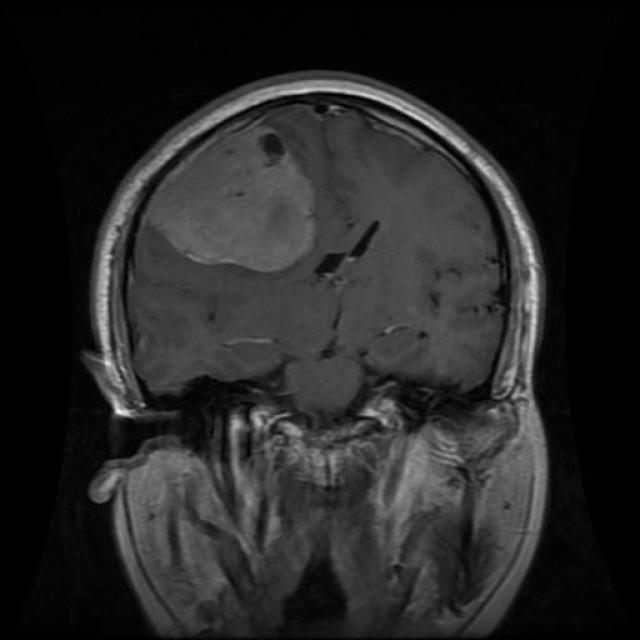meningioma: (146, 126, 320, 275)
